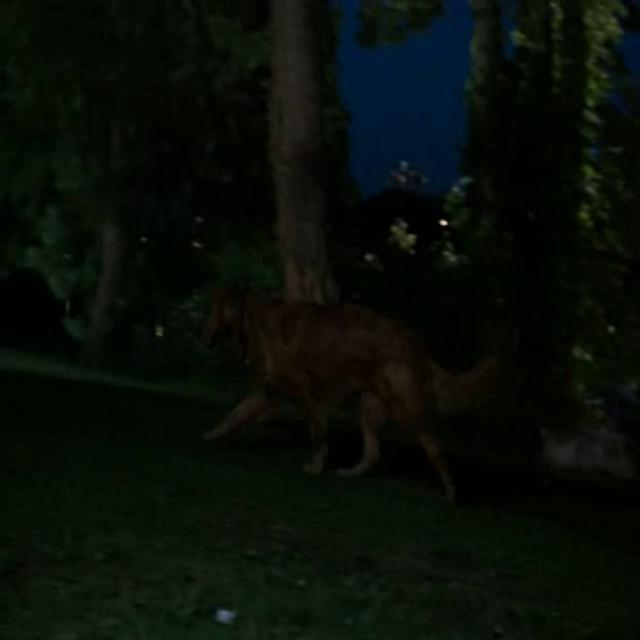Dog: (169, 302, 447, 508)
